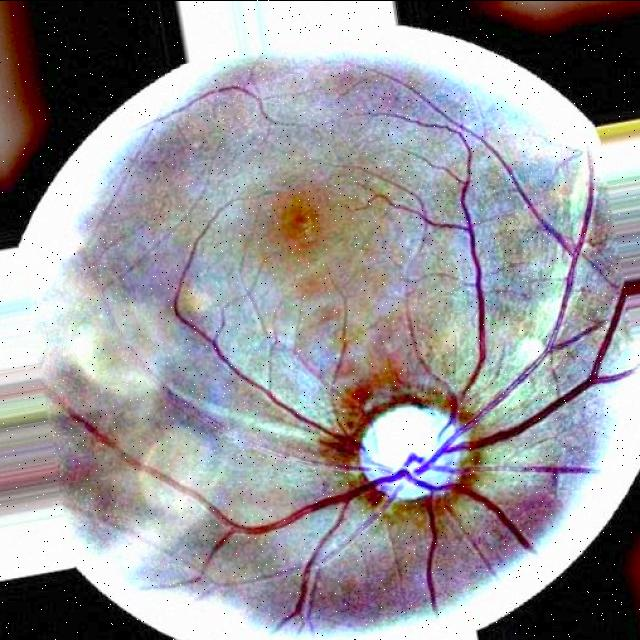Macula: (247, 170, 342, 273)
Nerves: (77, 190, 603, 602)
Optic Disk: (317, 361, 496, 532)
